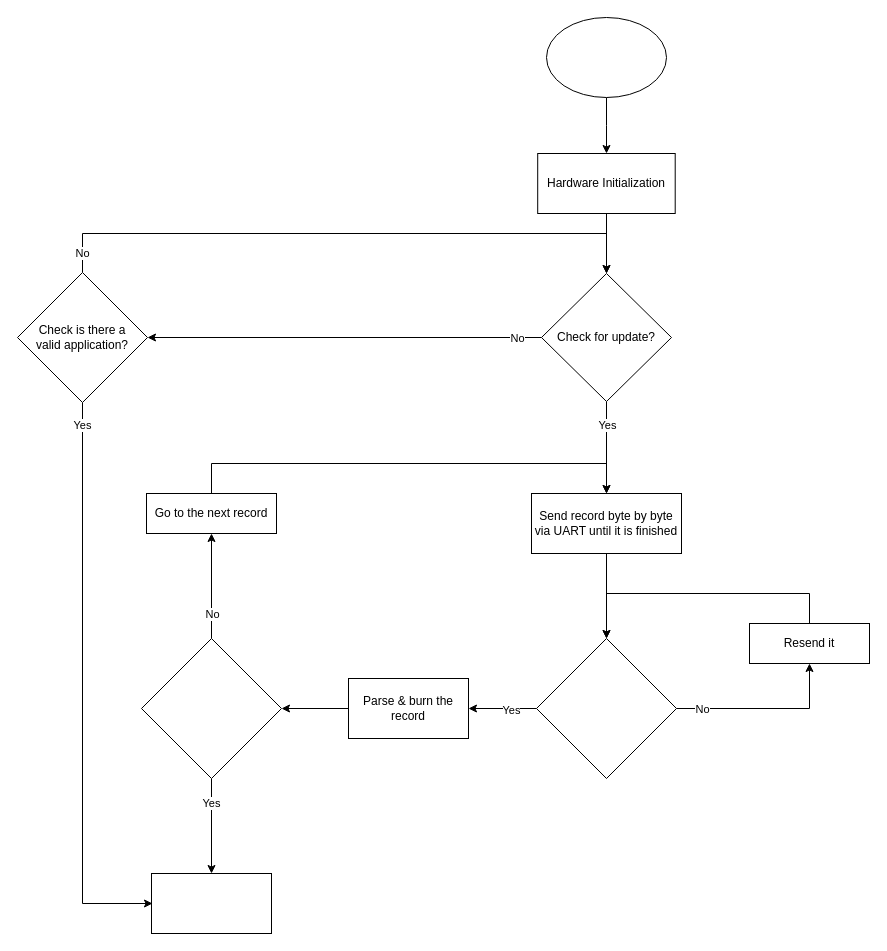
This 887x951 diagram has some shape labels left out. The box of each missing label's shape, as (x1, y1, x2, y2) in pixels:
Is it the last record: (140, 638, 282, 778)
Is the record valid?: (536, 638, 676, 778)
Jump to application: (150, 872, 272, 934)
Start: (546, 16, 666, 98)
